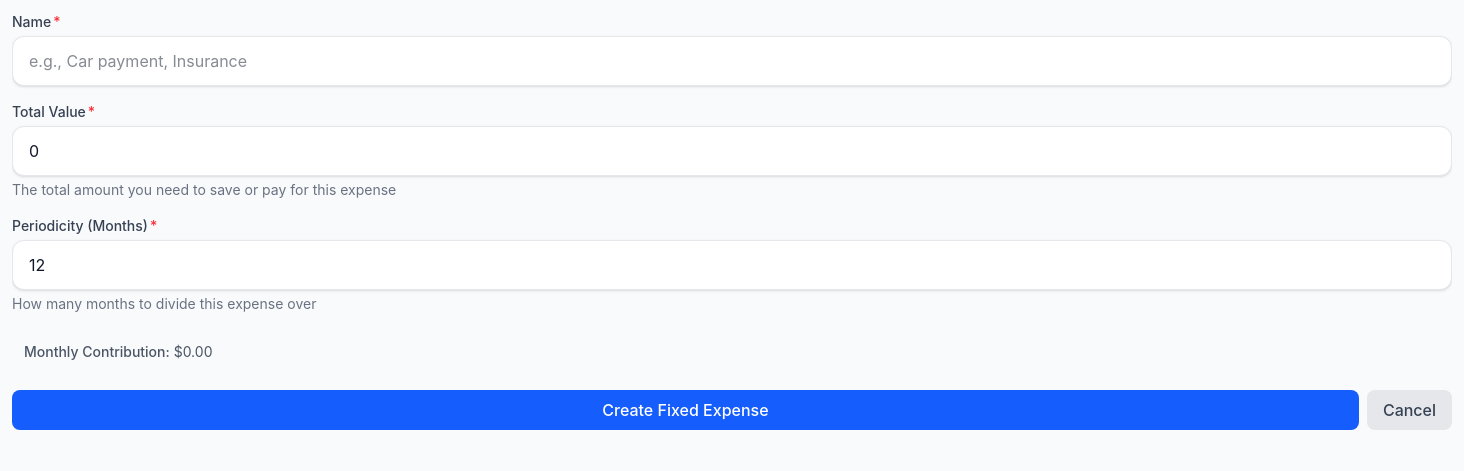
it: FixedExpenseForm › validation › shows required-field error when Name is empty on blur
Step 1. Click the field labelled "Name*" → {"x": 732, "y": 61}, box left=12, top=36, right=1452, bottom=86
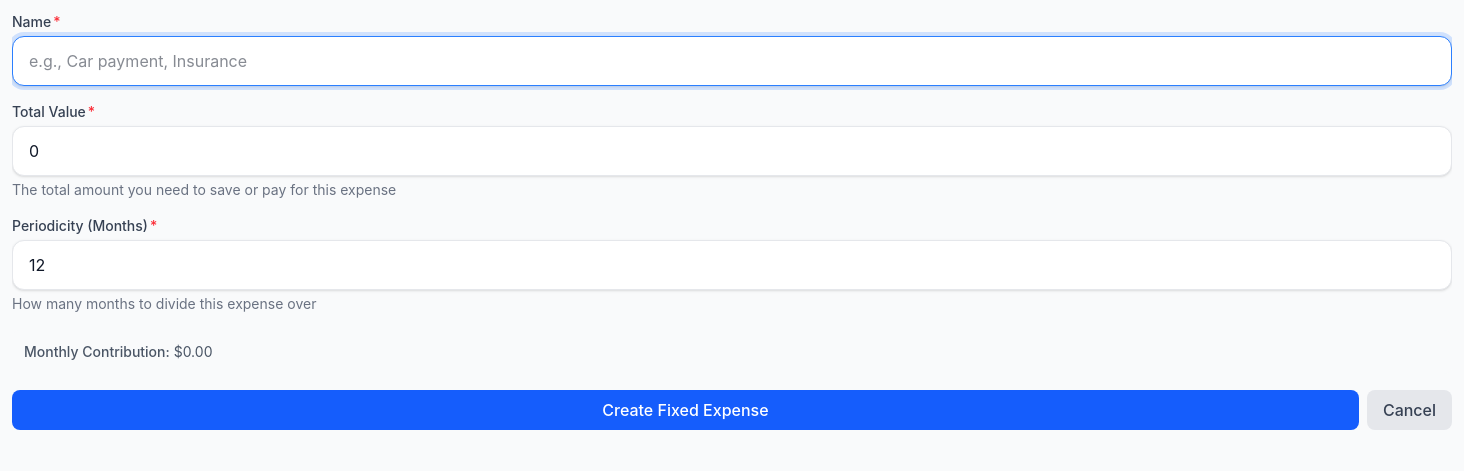
Step 2. Press Tab
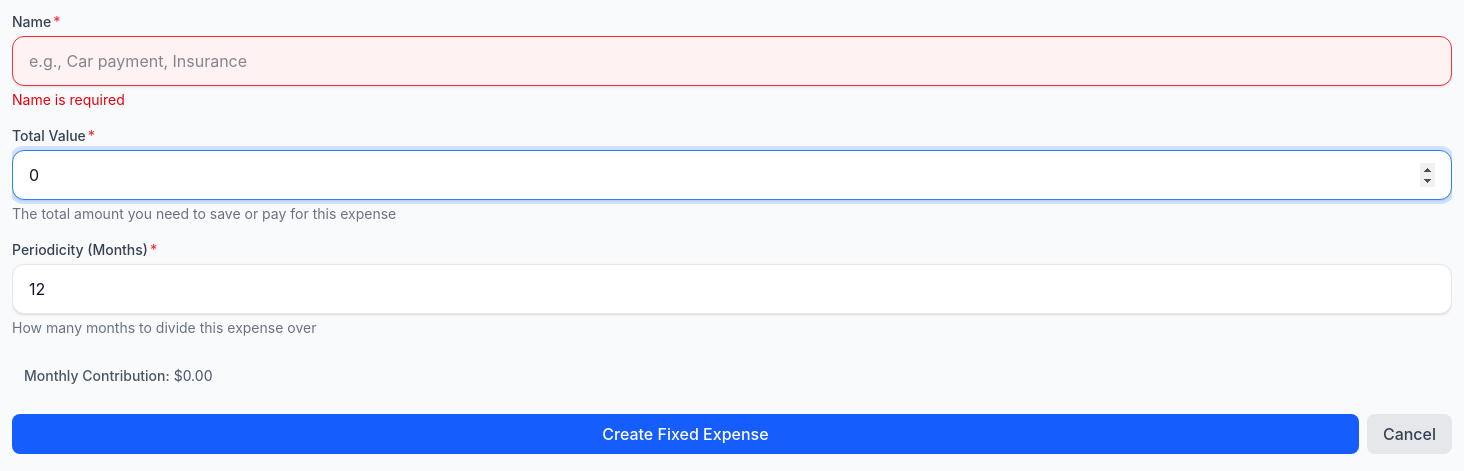
expect the text "Name is required" is shown: met, box left=12, top=91, right=125, bottom=108
